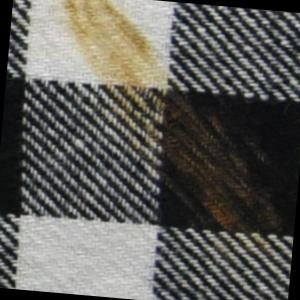Oil Stain: (33, 1, 300, 275)
